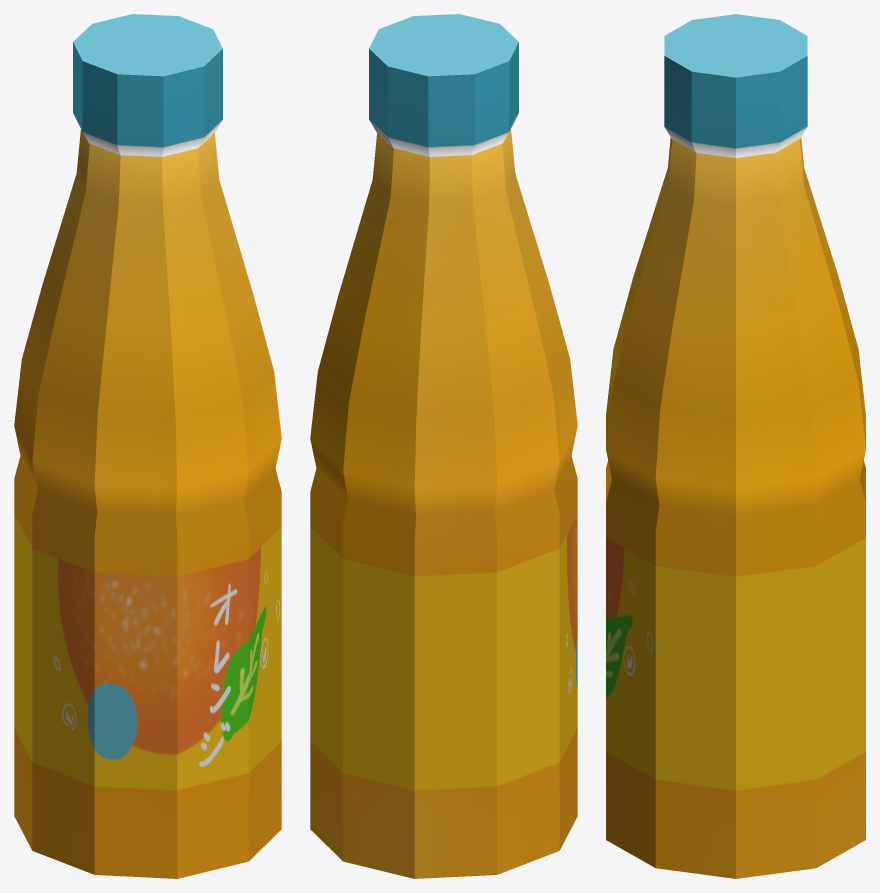
File: drink_C.fbx
3 views of the same model, side by side, from view 1: azimuth 30°, elevation 25°; view 2: azimuth 150°, elevation 25°; view 3: azimuth 270°, elevation 25° (orthographic).
Visible parts, largest first — view 1: drink_C_1; view 2: drink_C_1; view 3: drink_C_1.
Boxes of the visible parts, x1,y1,x2,y2 form: drink_C_1: (14,14,281,878); drink_C_1: (310,14,577,878); drink_C_1: (606,14,865,878).
Bounding box in the file's own units: 17.31 × 55.6 × 16.87.
Materials: 1 (1 with a texture image).
